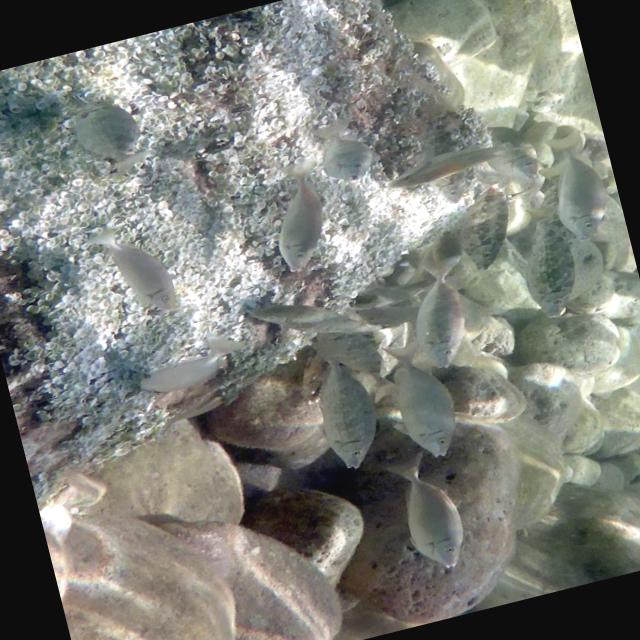Sokar Baligi: (62, 204, 202, 340), (374, 443, 480, 586)
